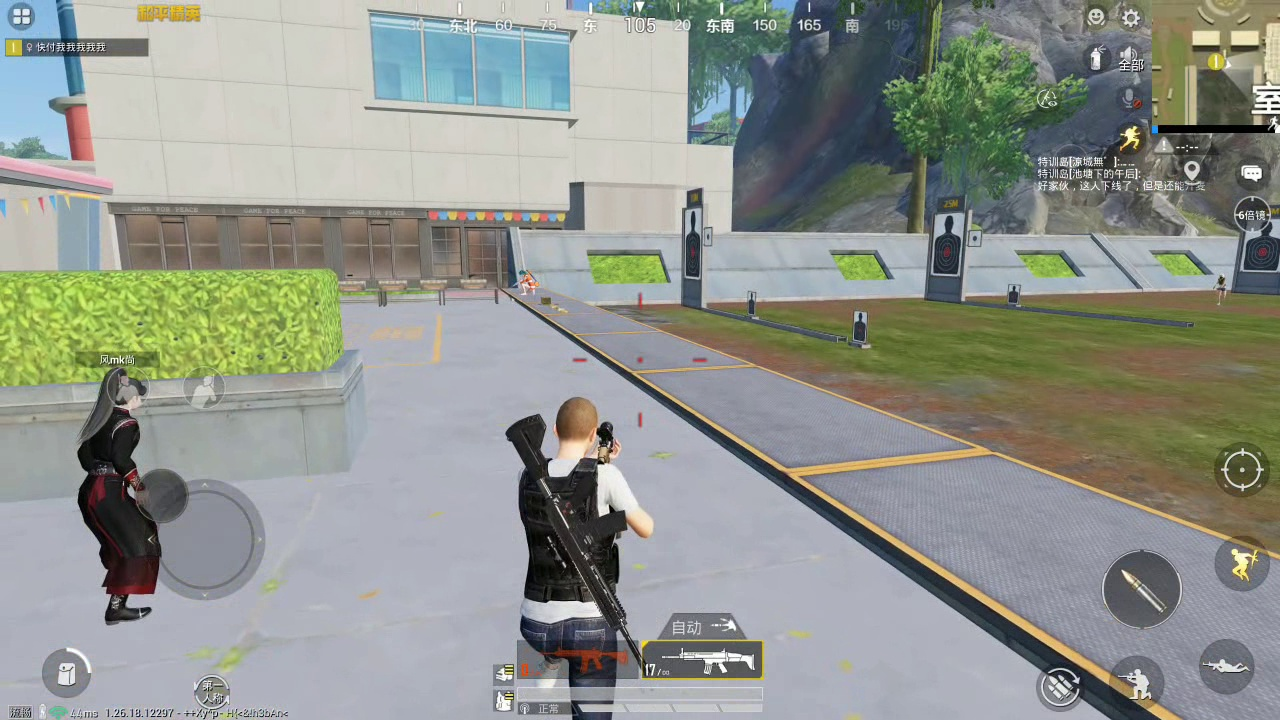enemy: (78, 361, 158, 628), (515, 267, 540, 297)
